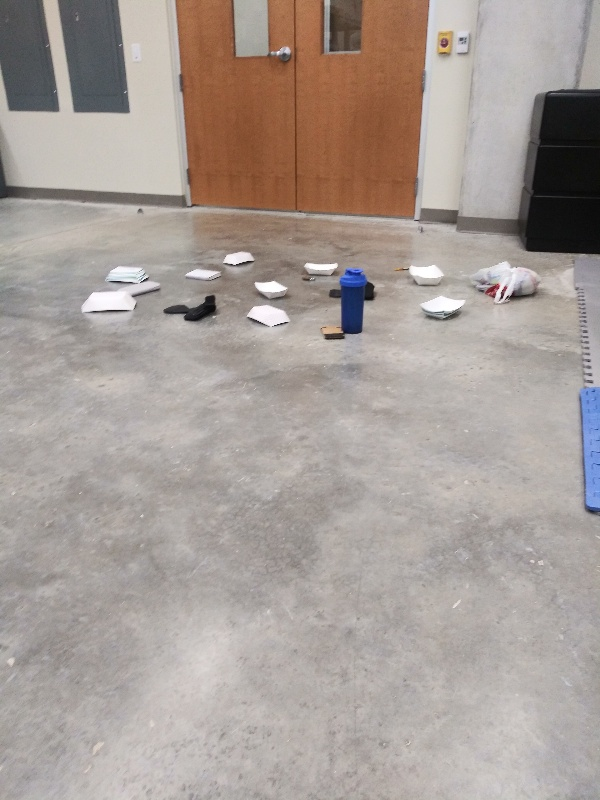plate: (77, 288, 143, 320), (415, 294, 470, 324), (242, 301, 294, 331), (403, 259, 448, 288), (103, 262, 149, 289), (248, 278, 293, 299), (220, 246, 258, 270), (299, 259, 345, 278)
